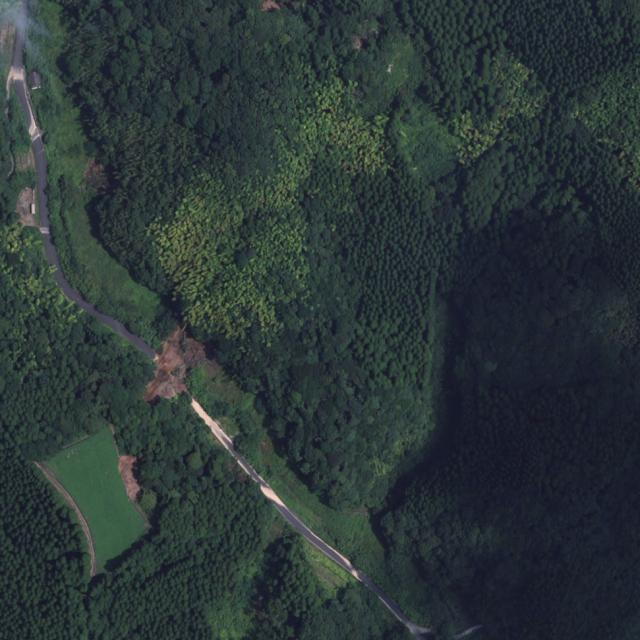landslide: (143, 328, 206, 402)
